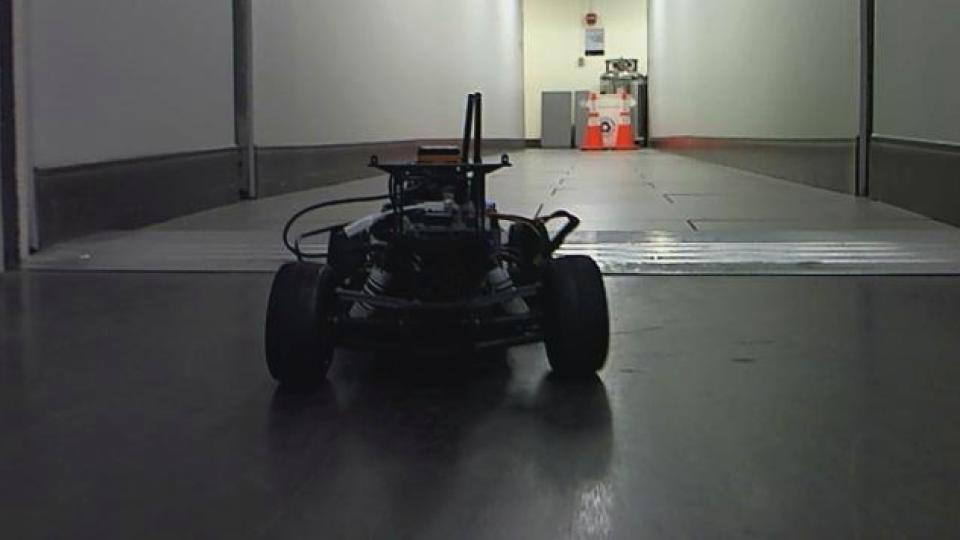car: (261, 89, 614, 393)
